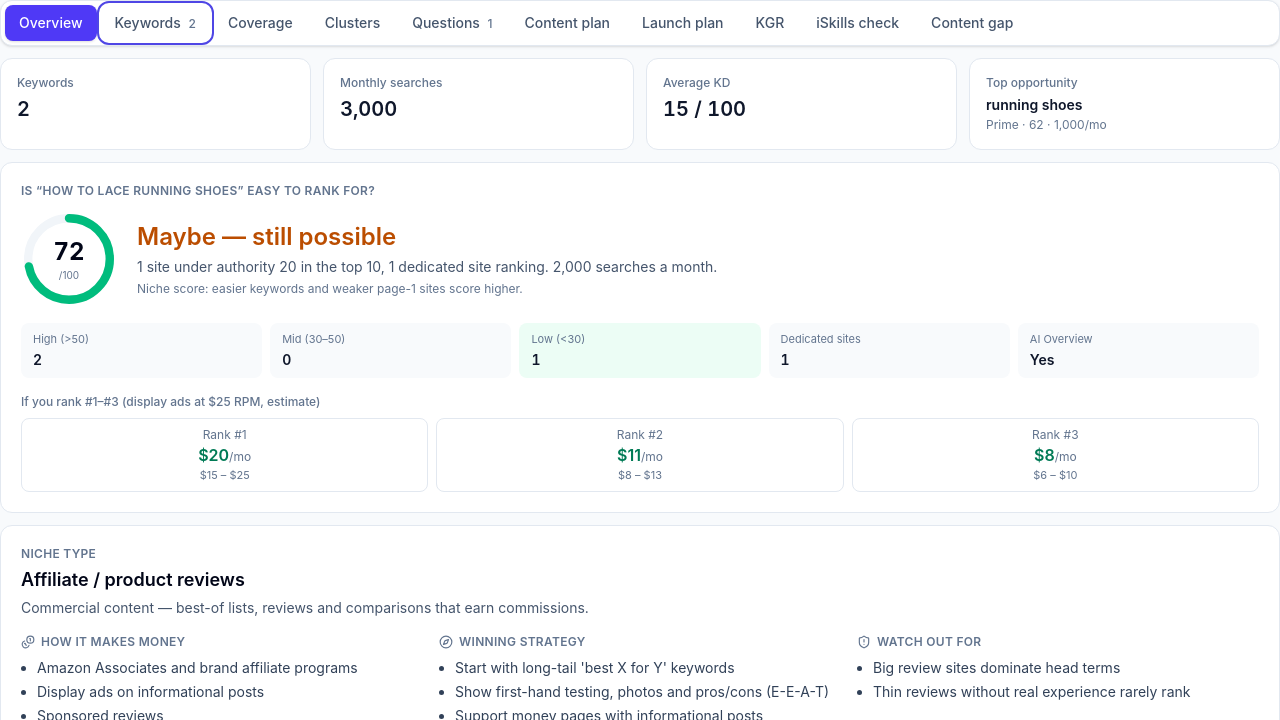
it: result tabs › switches to question keywords with the keyboard and opens the SERP panel
The width and height of the screenshot is (1280, 720).
Check: the tab "Questions 1" is shown, box x1=398 y1=5 x2=507 y2=41
Step 1. Press Arrowright
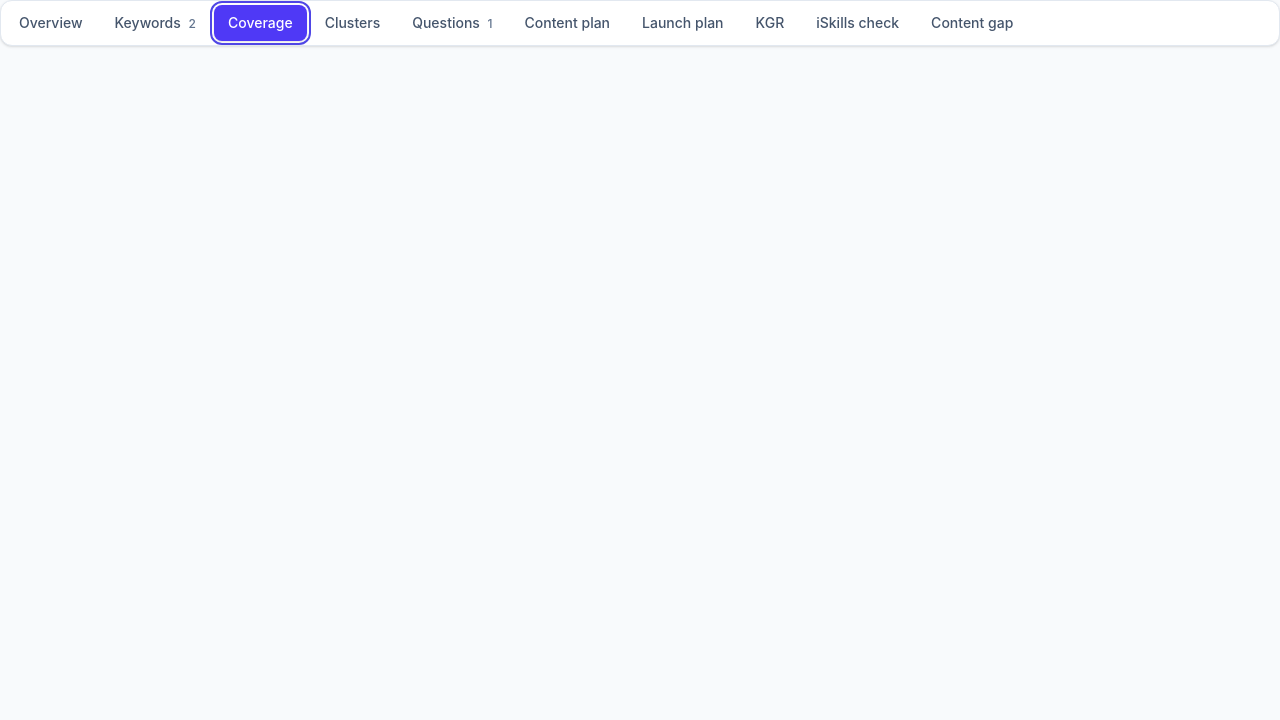
Step 2. Press Arrowright
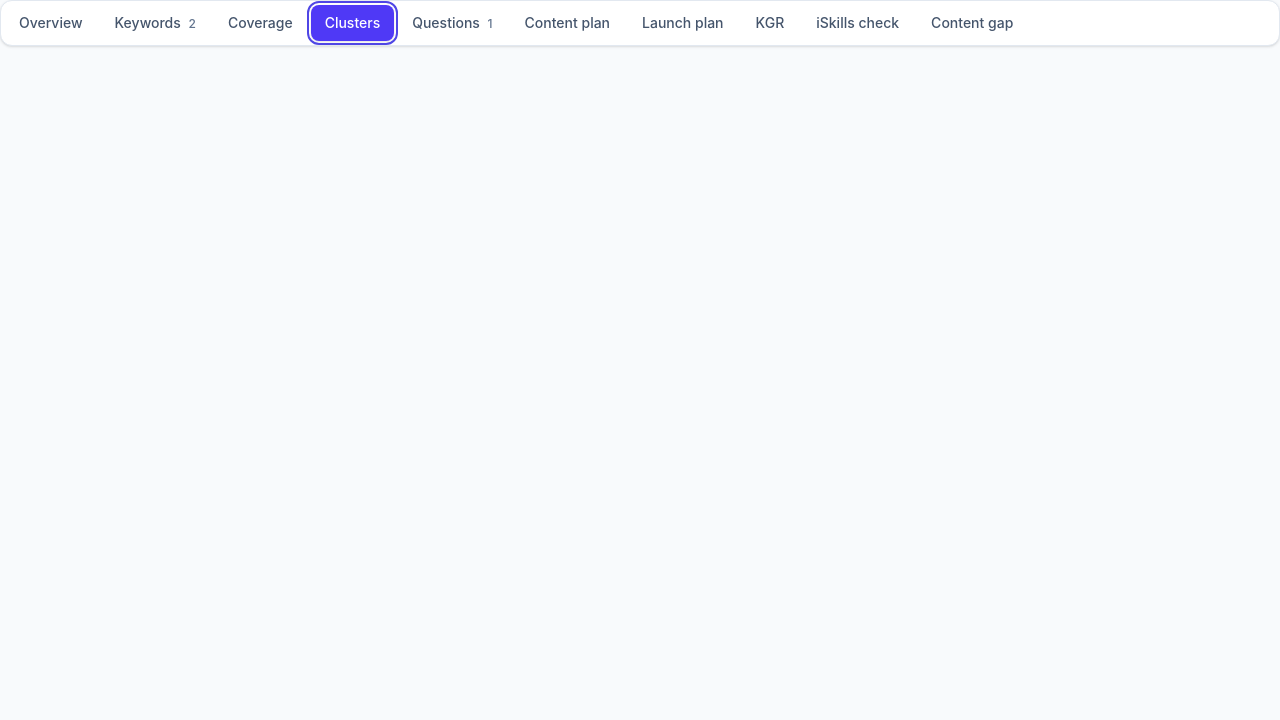
Step 3. Press Arrowright
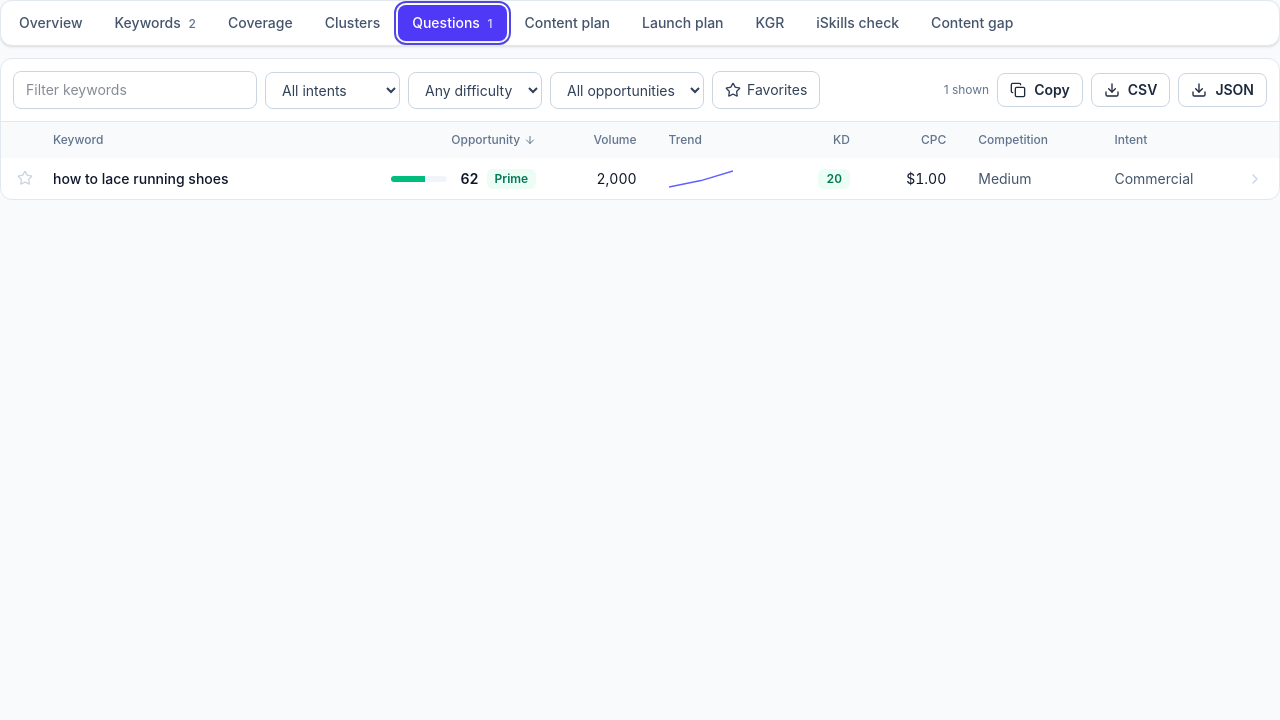
Check: the tab "Questions 1" is selected, box x1=398 y1=5 x2=507 y2=41
Step 4. Click the button "how to lace running shoes" → click(141, 179), box x1=53 y1=169 x2=228 y2=189
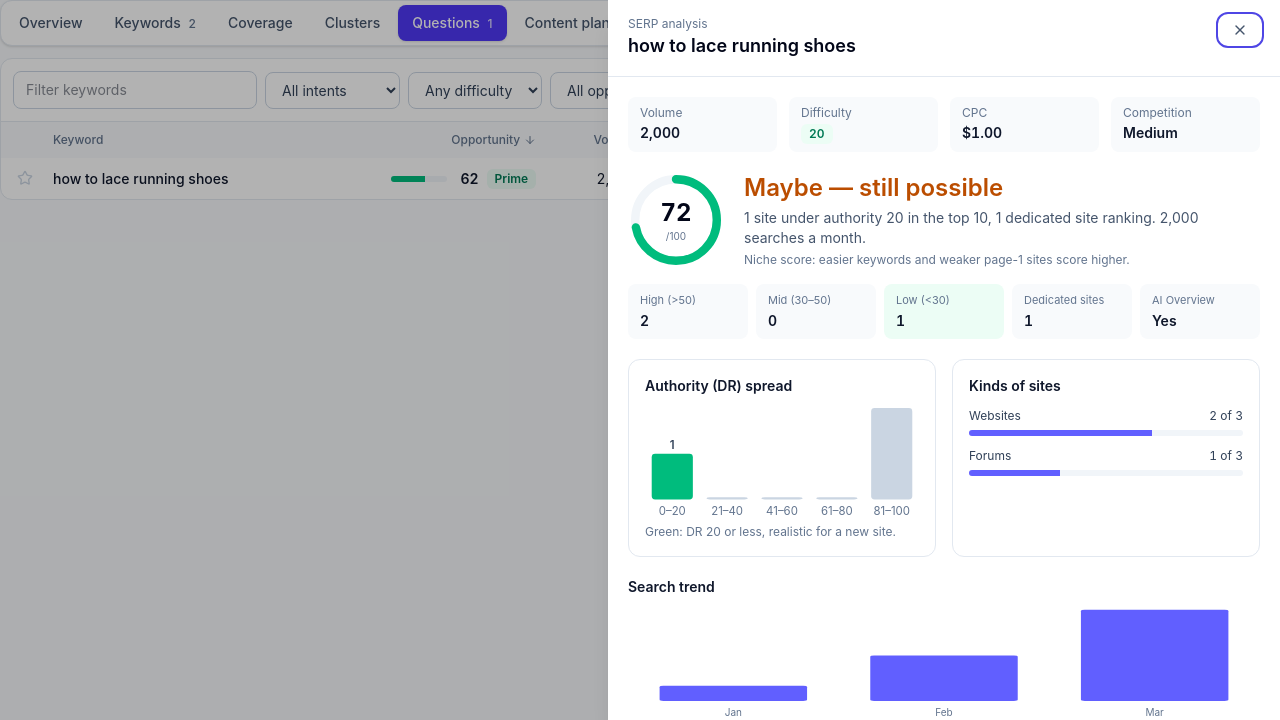
Check: the dialog "how to lace running shoes" is shown, box x1=608 y1=0 x2=1279 y2=719
